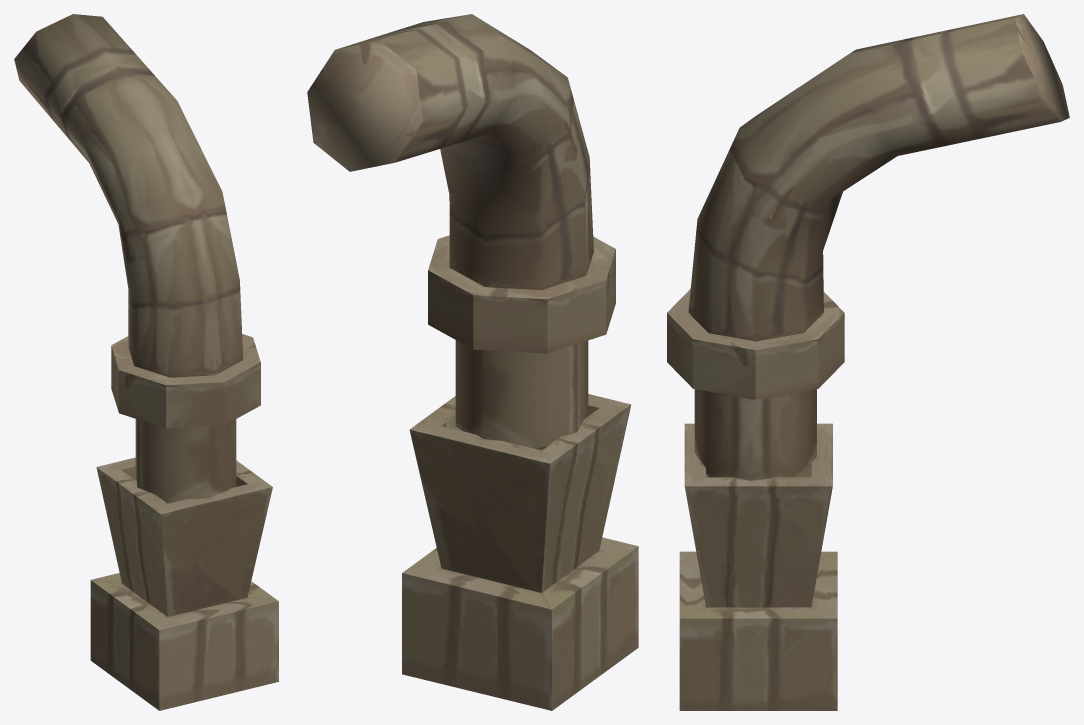
Rendered from WuJian06.FBX.
3 views of the same model, side by side, from view 1: azimuth 30°, elevation 25°; view 2: azimuth 150°, elevation 25°; view 3: azimuth 270°, elevation 25° (orthographic). The views are drawn at different scales.
Visible parts, largest first — view 1: Object801126976, WuJian06; view 2: WuJian06, Object801126976; view 3: Object801126976, WuJian06.
Boxes of the visible parts, x1=… form: Object801126976: x1=14, y1=14, x2=243, y2=503; WuJian06: x1=90, y1=334, x2=278, y2=710; WuJian06: x1=402, y1=235, x2=638, y2=710; Object801126976: x1=307, y1=14, x2=593, y2=448; Object801126976: x1=688, y1=14, x2=1069, y2=480; WuJian06: x1=667, y1=289, x2=844, y2=710.
Bounding box in the file's own units: 48.33 × 198 × 110.
